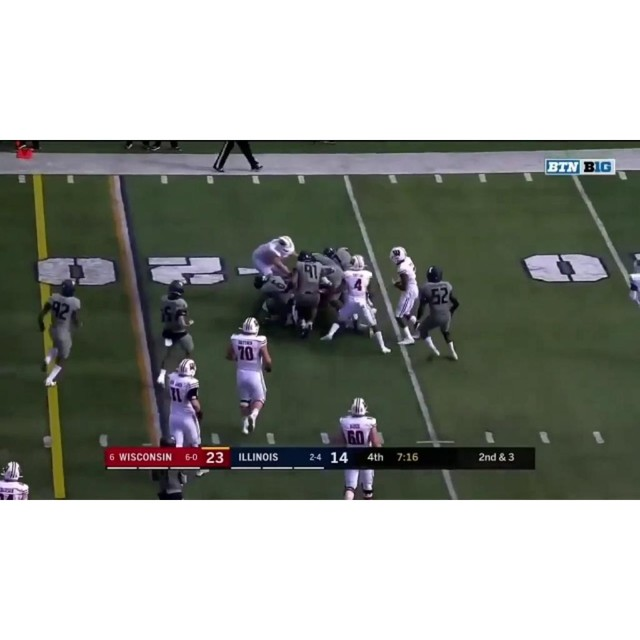american-football-player: (322, 253, 391, 354), (224, 317, 272, 436), (37, 280, 83, 388), (335, 398, 382, 500), (159, 356, 204, 450), (416, 267, 460, 361), (158, 280, 195, 381), (388, 247, 421, 347), (251, 235, 296, 280), (0, 461, 31, 500)
